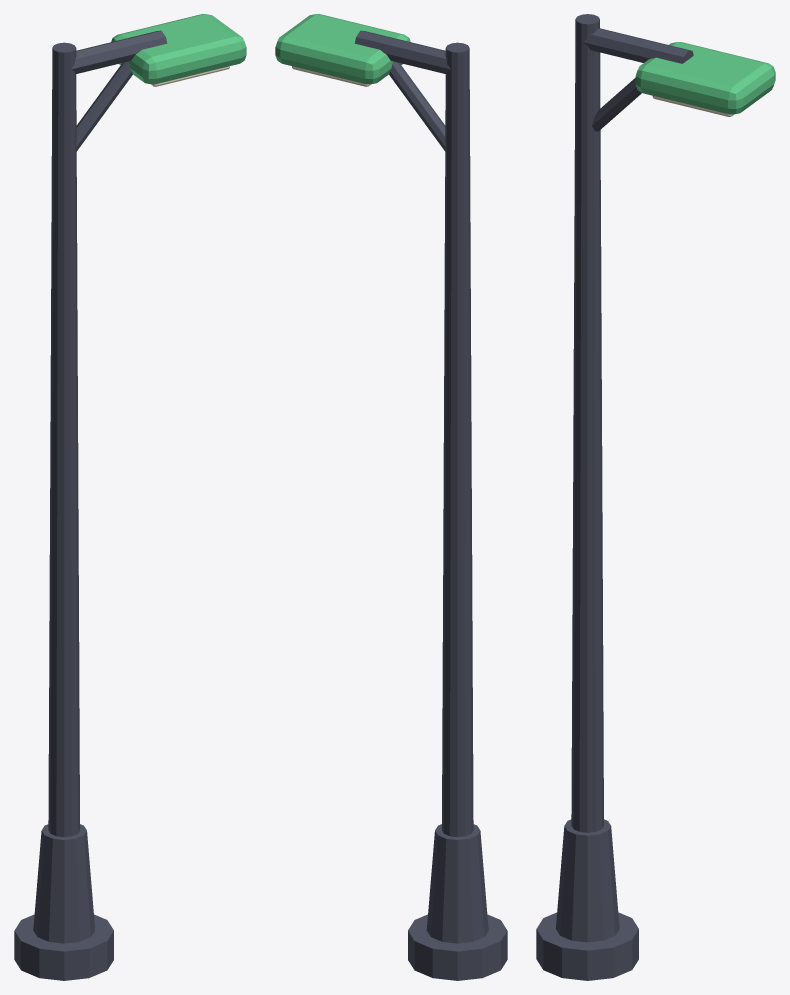
Rendered from streetlamp.glb.
The picture shows the model from 3 angles, left to right: view 1: azimuth 30°, elevation 25°; view 2: azimuth 150°, elevation 25°; view 3: azimuth 330°, elevation 25°; orthographic projection. The views are drawn at different scales.
Visible parts, largest first — view 1: streetlamp__Pole, streetlamp__Base, streetlamp__Shade, streetlamp__Foot, streetlamp__Lamp arm, streetlamp__Arm brace; view 2: streetlamp__Pole, streetlamp__Base, streetlamp__Shade, streetlamp__Foot, streetlamp__Lamp arm, streetlamp__Arm brace; view 3: streetlamp__Pole, streetlamp__Shade, streetlamp__Base, streetlamp__Foot, streetlamp__Lamp arm, streetlamp__Arm brace.
Part boxes in pixels (x1,y1,x2,y2): streetlamp__Pole: (48,42,79,836); streetlamp__Base: (33,824,95,943); streetlamp__Shade: (111,14,246,84); streetlamp__Foot: (14,914,113,980); streetlamp__Lamp arm: (71,30,167,74); streetlamp__Arm brace: (76,61,132,151); streetlamp__Pole: (442,42,473,836); streetlamp__Base: (426,824,488,943); streetlamp__Shade: (275,14,410,84); streetlamp__Foot: (408,914,507,980); streetlamp__Lamp arm: (354,30,450,74); streetlamp__Arm brace: (389,61,445,151); streetlamp__Pole: (571,14,603,832); streetlamp__Shade: (635,42,775,114); streetlamp__Base: (556,819,619,942); streetlamp__Foot: (536,912,638,980); streetlamp__Lamp arm: (582,28,693,63); streetlamp__Arm brace: (592,78,641,131).
Bounding box in the file's own units: 0.223 × 0.93 × 0.092.
